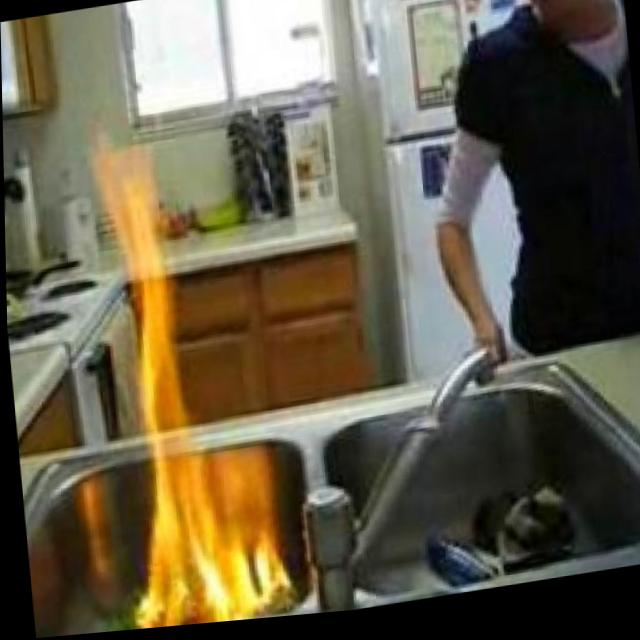Fire: (81, 102, 285, 634)
